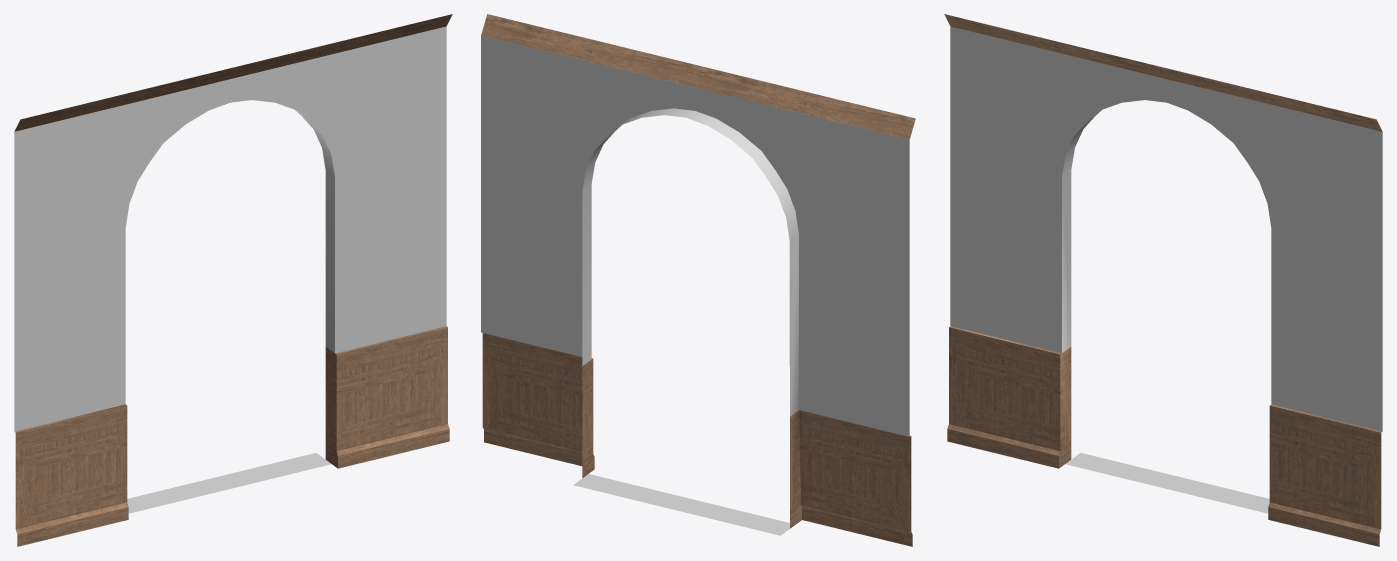
Rendered from WallIntDoorExt1A.fbx.
The picture shows the model from 3 angles, left to right: view 1: azimuth 30°, elevation 25°; view 2: azimuth 150°, elevation 25°; view 3: azimuth 330°, elevation 25°; orthographic projection.
Parts seen in each view (by area): view 1: WallIntDoorExt1A, DoorExt1A-floor; view 2: WallIntDoorExt1A, DoorExt1A-floor; view 3: WallIntDoorExt1A, DoorExt1A-floor.
Boxes of the visible parts, x1,y1,x2,y2 form: WallIntDoorExt1A: (14,14,452,546); DoorExt1A-floor: (127,453,331,513); WallIntDoorExt1A: (481,14,915,546); DoorExt1A-floor: (573,474,789,535); WallIntDoorExt1A: (944,14,1382,546); DoorExt1A-floor: (1065,453,1269,513).
Size of the model in its own units: 400 by 380 by 40.
